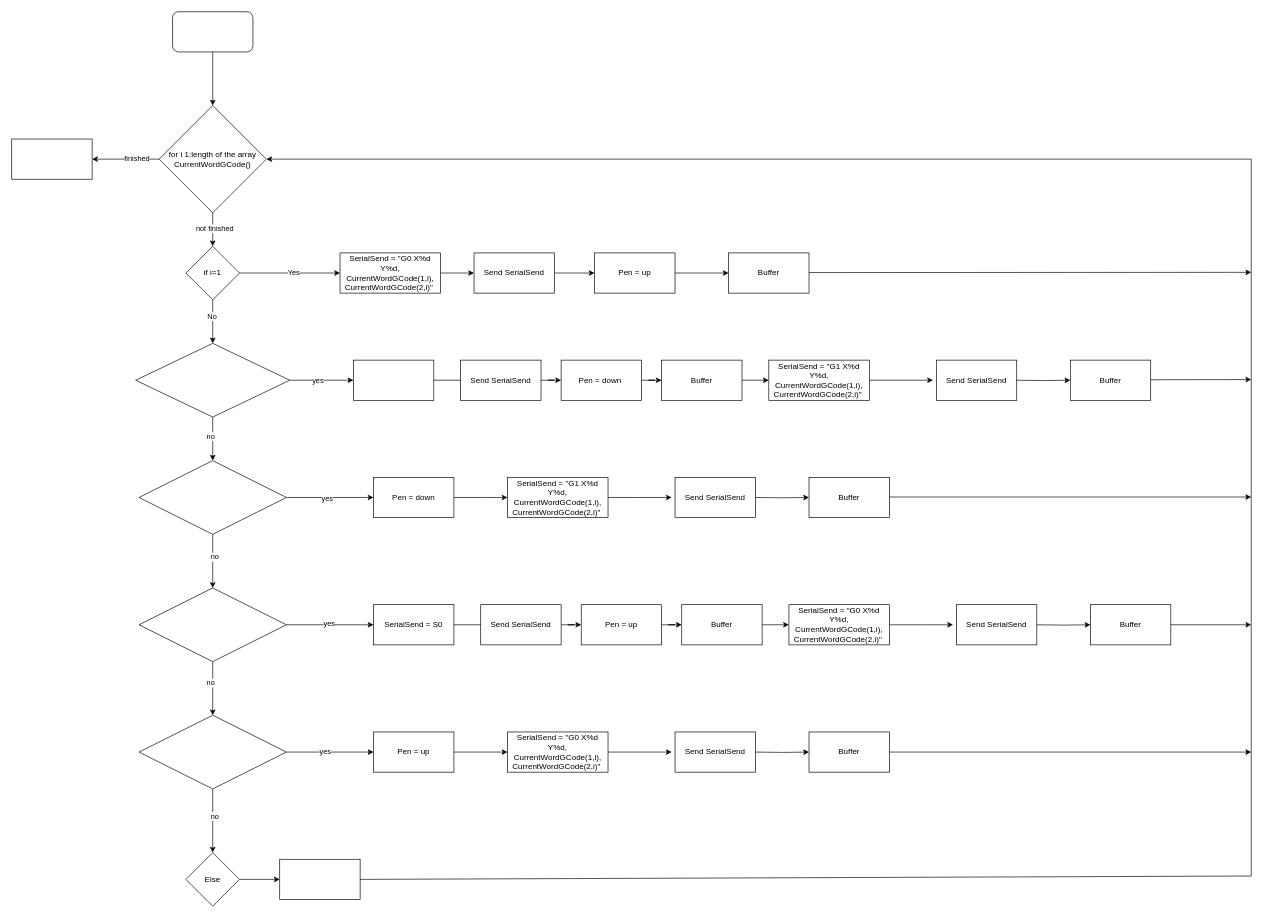
Some shapes in this 1268 by 918 pixel diagram are drawn without their labels. The centre of each missing label's shape, as x and y in pixels:
"elseif CurrentWordGCode(3,i)=0 (down) AND Pen = down" belongs at point 212,497.
"elseif CurrentWordGCode(3,i)=0 (down) AND Pen = up" belongs at point 212,380.
"elseif CurrentWordGCode(3,i)=1 (up) AND Pen = down" belongs at point 212,624.
"elseif CurrentWordGCode(3,i)=1 (up) AND Pen = up" belongs at point 212,752.
"Error" belongs at point 319,879.
"Function: SendToRobot" belongs at point 212,31.
"Return" belongs at point 51,158.
"SerialSend = S1000" belongs at point 393,379.
